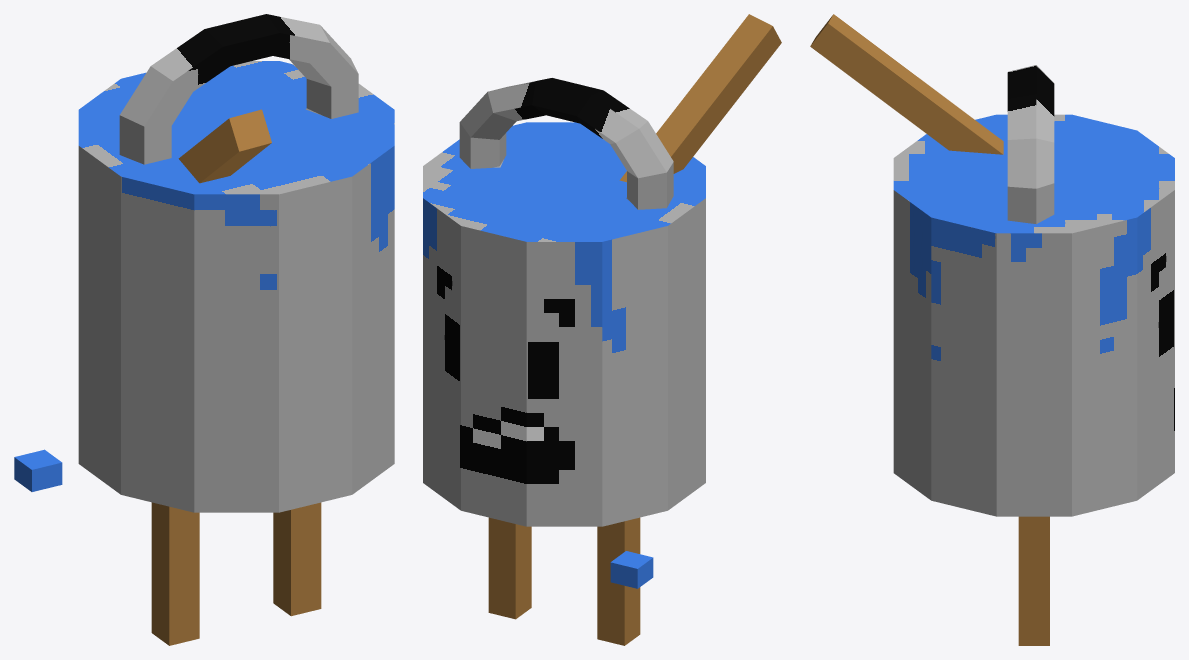
Rendered from spray.gltf.
The picture shows the model from 3 angles, left to right: view 1: azimuth 30°, elevation 25°; view 2: azimuth 150°, elevation 25°; view 3: azimuth 270°, elevation 25°; orthographic projection. The views are drawn at different scales.
Visible parts, largest first — view 1: cylinder, cuboid (×3), torus, cube; view 2: cylinder, cuboid (×3), torus, cube; view 3: cylinder, cuboid (×2), torus.
Boxes of the visible parts, x1,y1,x2,y2 form: cylinder: [78, 61, 394, 512]; cuboid (×3): [151, 109, 321, 645]; torus: [119, 14, 358, 164]; cube: [14, 449, 62, 491]; cylinder: [423, 122, 705, 526]; cuboid (×3): [488, 14, 781, 645]; torus: [459, 78, 673, 209]; cube: [610, 551, 653, 588]; cylinder: [893, 114, 1174, 516]; cuboid (×2): [810, 14, 1049, 645]; torus: [1007, 65, 1054, 224].
Size of the model in its own units: 0.2969 by 0.6072 by 0.3647.
Materials: 2 (2 with a texture image).
